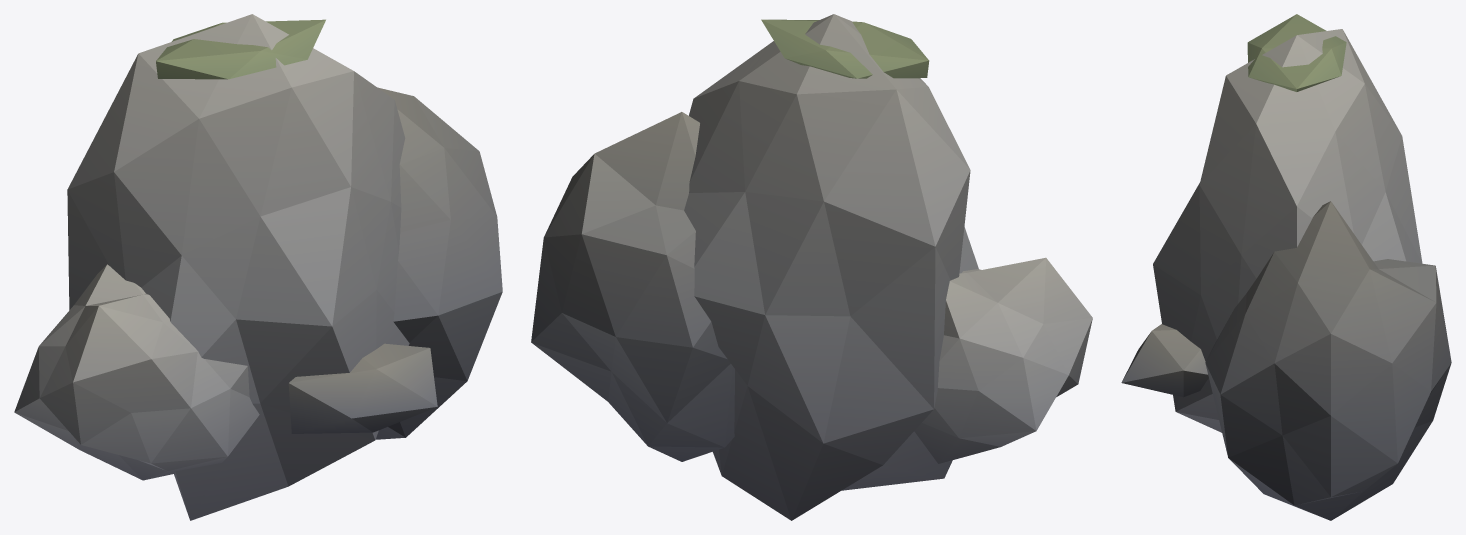
File: rock_cliff.glb
3 views of the same model, side by side, from view 1: azimuth 30°, elevation 25°; view 2: azimuth 150°, elevation 25°; view 3: azimuth 270°, elevation 25° (orthographic). The views are drawn at different scales.
Visible parts, largest first — view 1: rock_cliff; view 2: rock_cliff; view 3: rock_cliff.
Part boxes in pixels (left/top/right/bottom): rock_cliff: left=14, top=14, right=502, bottom=520; rock_cliff: left=531, top=14, right=1092, bottom=520; rock_cliff: left=1121, top=14, right=1451, bottom=520.
Bounding box in the file's own units: 22.1 × 21.22 × 14.57.
Materials: 1 (1 with a texture image).
